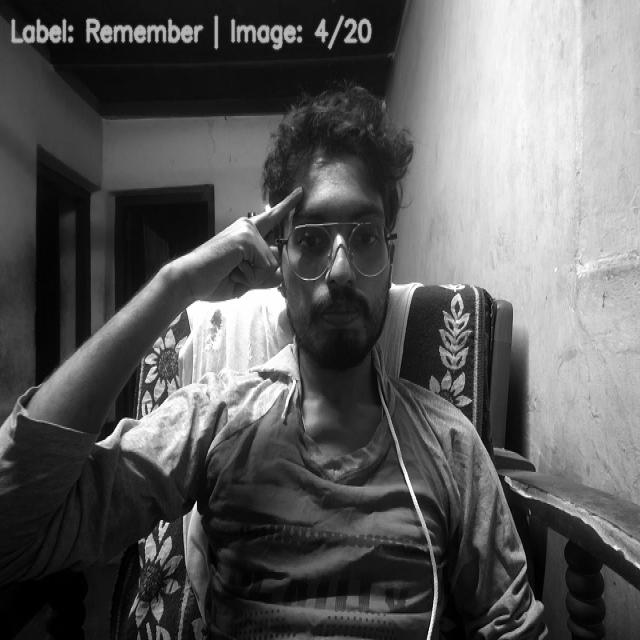Remember: (181, 181, 307, 306)
